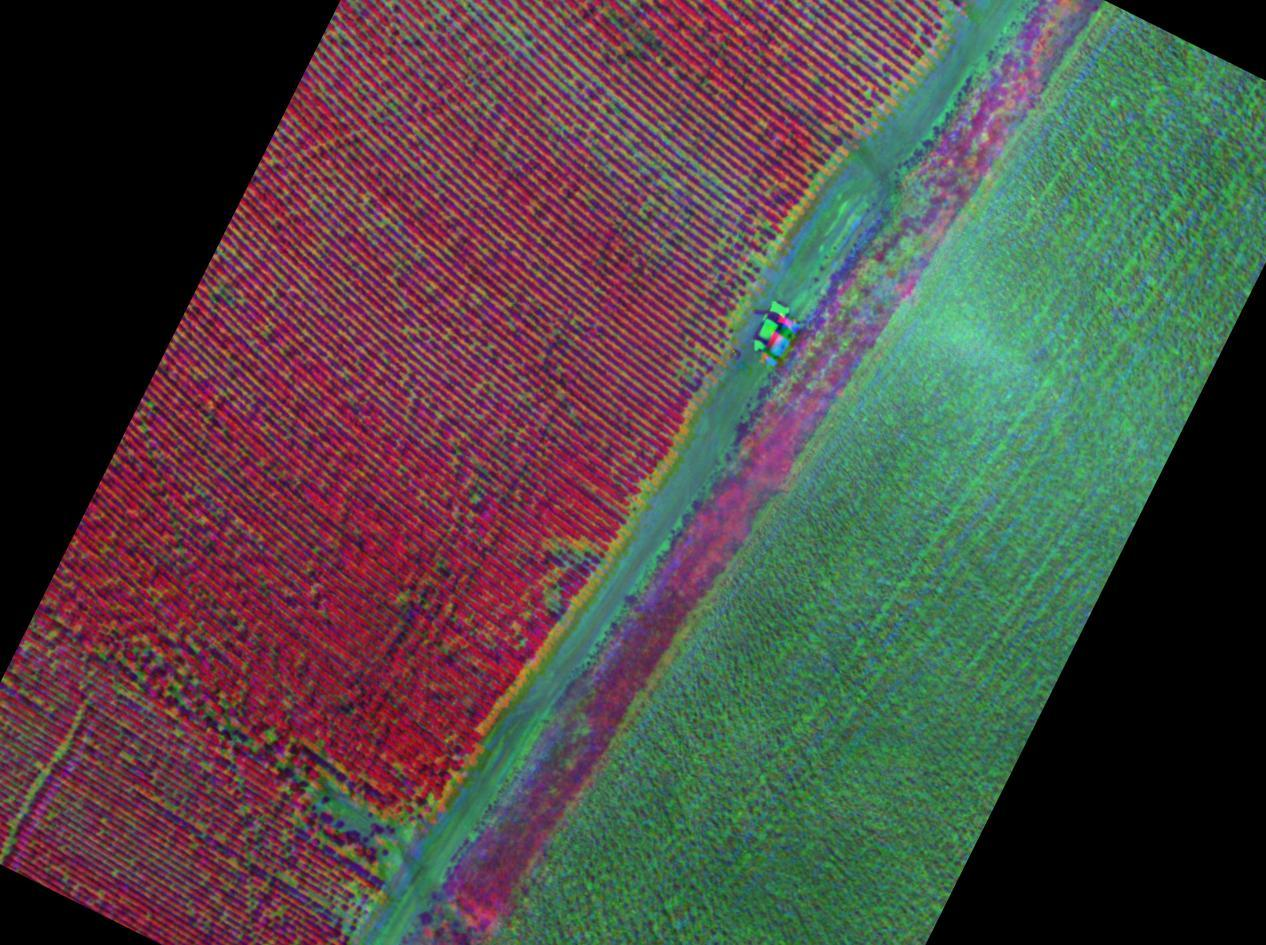dc: (283, 740, 427, 875), (679, 211, 758, 363), (527, 510, 608, 612), (609, 8, 680, 89)
